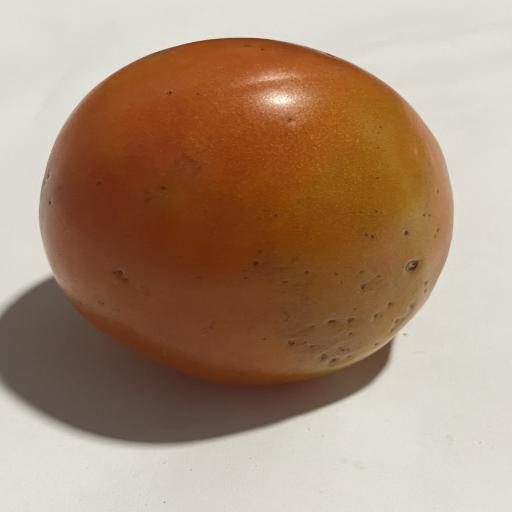unripe: (40, 38, 452, 384)
